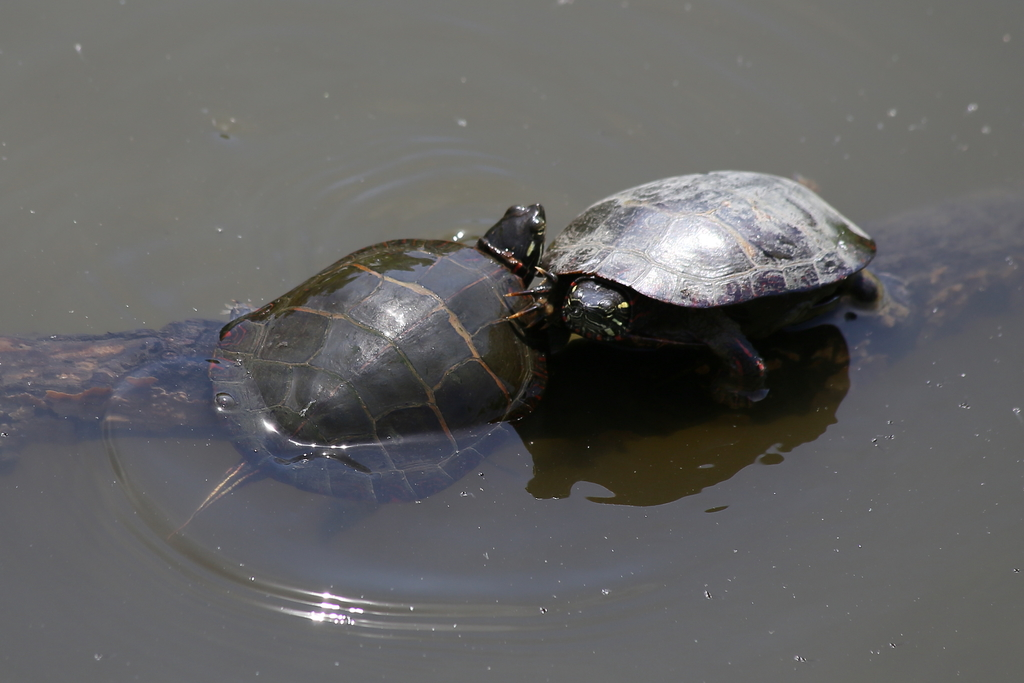Sea turtles: (151, 192, 571, 552), (529, 163, 907, 405)
